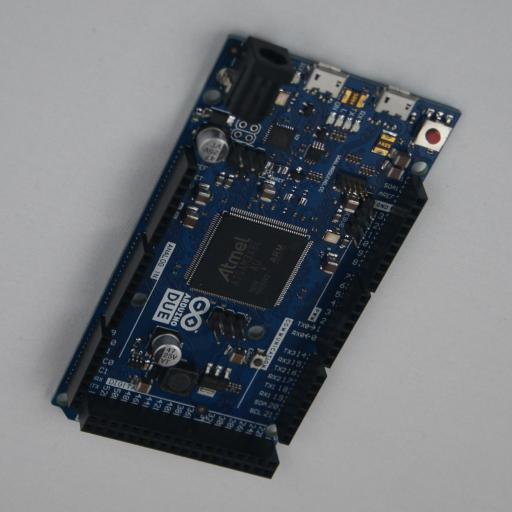Arduino Due: (51, 34, 461, 479)
